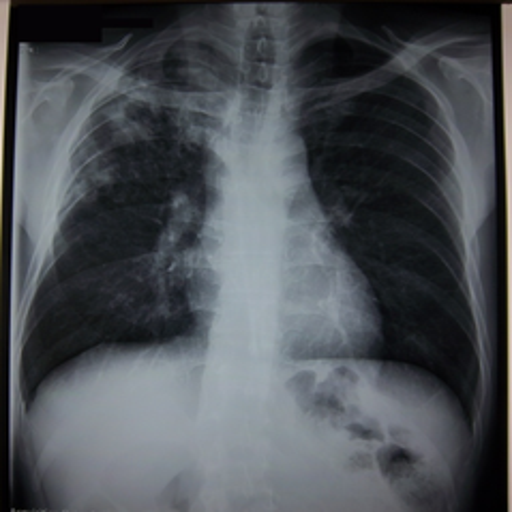TB: (74, 74, 214, 151)
